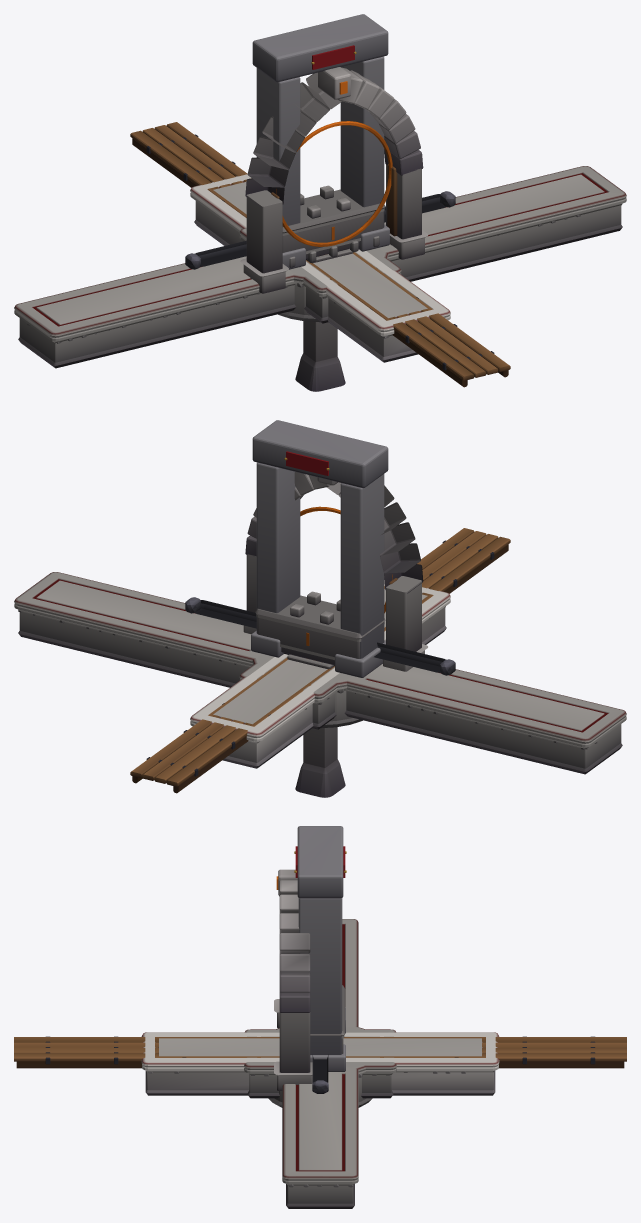
Rendered from fortress-6-Dj10dStH.glb.
3 renders of one model, top to bottom at view 1: azimuth 30°, elevation 25°; view 2: azimuth 150°, elevation 25°; view 3: azimuth 270°, elevation 25°, orthographic. The views are drawn at different scales.
Parts seen in each view (by area): view 1: block_48x2x6#0, portal_#0, pressFrame_5x6x2x7#0, block_6x2x28#0, block_4x2x48_plank#0, spout_7x2#0, support_1_square#0, mount_10.6#0, block_7x2x12#0, disc_10x1.5#0; view 2: block_48x2x6#0, pressFrame_5x6x2x7#0, block_6x2x28#0, block_4x2x48_plank#0, portal_#0, spout_7x2#0, support_1_square#0, mount_10.6#0, block_7x2x12#0, disc_10x1.5#0; view 3: block_6x2x28#0, block_48x2x6#0, block_4x2x48_plank#0, pressFrame_5x6x2x7#0, portal_#0, block_7x2x12#0, mount_10.6#0.
Part boxes in pixels (x1,y1,x2,y2): block_48x2x6#0: (14, 166, 626, 368); portal_#0: (240, 67, 427, 293); pressFrame_5x6x2x7#0: (252, 14, 389, 269); block_6x2x28#0: (190, 174, 450, 362); block_4x2x48_plank#0: (130, 122, 510, 387); spout_7x2#0: (282, 185, 385, 267); support_1_square#0: (295, 321, 345, 391); mount_10.6#0: (185, 191, 455, 269); block_7x2x12#0: (239, 228, 401, 323); disc_10x1.5#0: (278, 246, 388, 322); block_48x2x6#0: (14, 572, 626, 774); pressFrame_5x6x2x7#0: (251, 420, 388, 677); block_6x2x28#0: (190, 580, 450, 768); block_4x2x48_plank#0: (130, 528, 510, 793); portal_#0: (243, 471, 427, 671); spout_7x2#0: (255, 591, 385, 665); support_1_square#0: (295, 727, 345, 797); mount_10.6#0: (185, 597, 455, 675); block_7x2x12#0: (239, 639, 385, 729); disc_10x1.5#0: (252, 652, 362, 728); block_6x2x28#0: (141, 1032, 499, 1095); block_48x2x6#0: (282, 919, 358, 1208); block_4x2x48_plank#0: (14, 1036, 626, 1068); pressFrame_5x6x2x7#0: (294, 826, 346, 1071); portal_#0: (274, 869, 312, 1090); block_7x2x12#0: (244, 1029, 396, 1098); mount_10.6#0: (312, 1054, 328, 1093).
Bounding box in the file's own units: 48 × 27.5 × 48.
